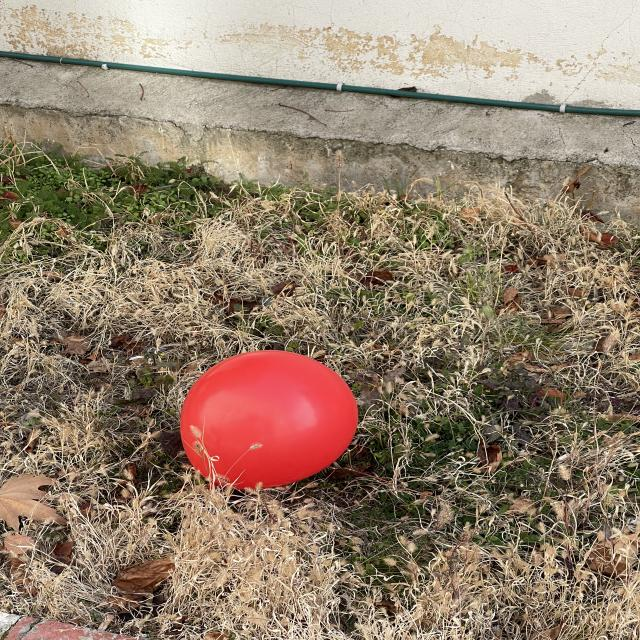balloon: (181, 350, 358, 489)
